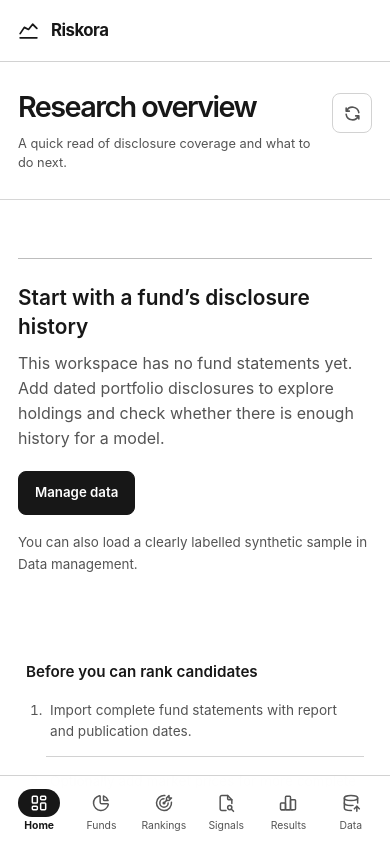
Test: offers the same six destinations in the mobile bottom navigation
The width and height of the screenshot is (390, 844).
Click the link with aria-label "Candidate rankings" at (164, 812), box [141,792,186,832]
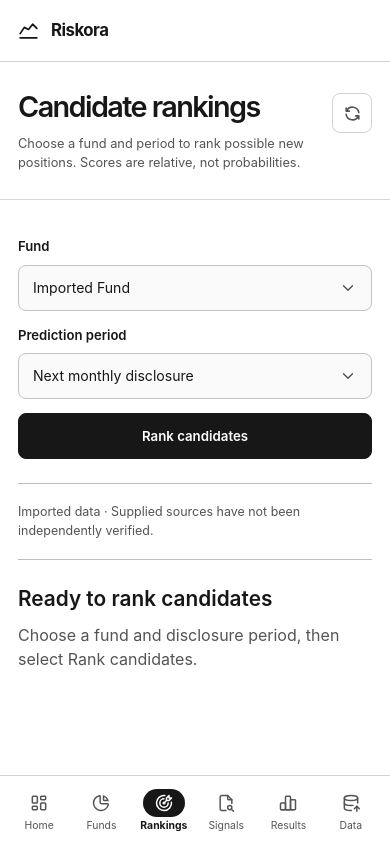
Expected: the heading "Candidate rankings" is shown, [18,89,260,124]
